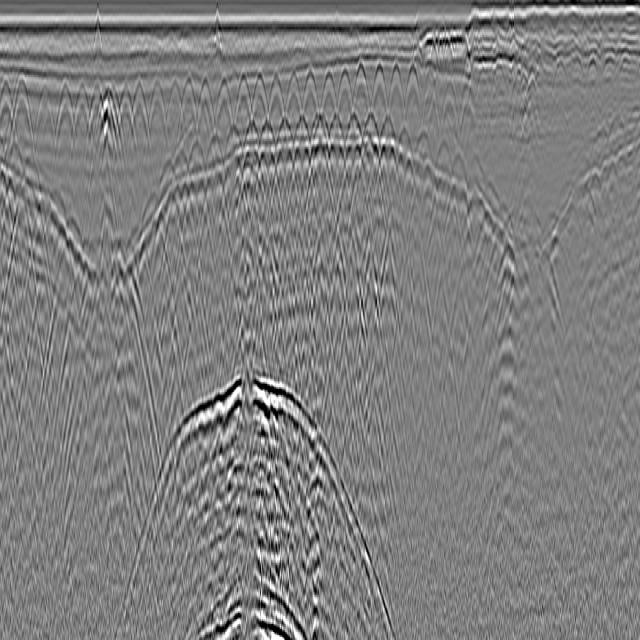hyperbola: (51, 81, 78, 163), (127, 81, 154, 162), (11, 74, 35, 162), (112, 84, 138, 162), (143, 79, 169, 155), (31, 83, 58, 154), (162, 76, 188, 143), (176, 69, 201, 138), (230, 69, 253, 142), (68, 84, 92, 150), (192, 74, 217, 135), (264, 71, 284, 135), (282, 64, 302, 123), (249, 68, 270, 124), (375, 113, 399, 162), (301, 64, 321, 122), (402, 65, 423, 120), (336, 66, 354, 126), (213, 75, 234, 126), (318, 68, 338, 121), (154, 158, 175, 208), (360, 111, 381, 160), (84, 87, 102, 144), (350, 62, 371, 110), (343, 110, 364, 155), (0, 81, 17, 135), (388, 60, 405, 114), (370, 63, 388, 112), (185, 138, 204, 180), (206, 129, 223, 167), (170, 151, 189, 185), (223, 122, 241, 156), (396, 126, 413, 159), (242, 117, 259, 147), (293, 114, 310, 144), (311, 108, 328, 138), (327, 112, 344, 141), (275, 116, 293, 142), (259, 116, 275, 145)
